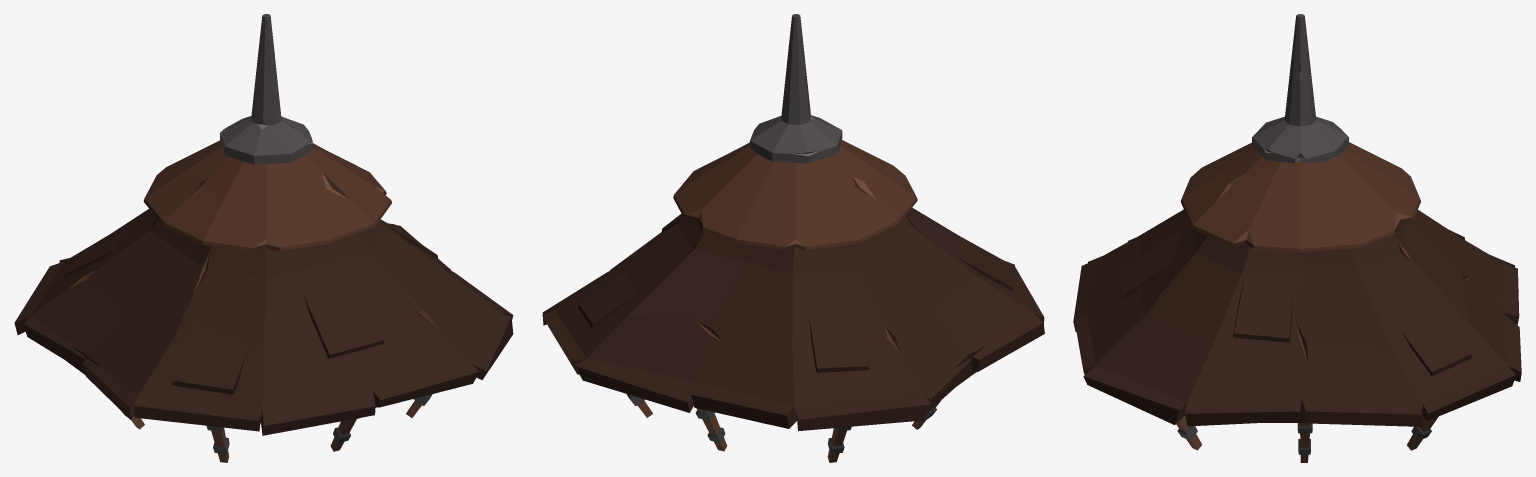
Rendered from Roof_01.glb.
The picture shows the model from 3 angles, left to right: view 1: azimuth 30°, elevation 25°; view 2: azimuth 150°, elevation 25°; view 3: azimuth 270°, elevation 25°; orthographic projection.
Visible parts, largest first — view 1: Roof_01; view 2: Roof_01; view 3: Roof_01.
Part boxes in pixels (x1,y1,x2,y2): Roof_01: (14,14,513,462); Roof_01: (542,14,1044,462); Roof_01: (1073,14,1521,462).
Size of what is drawn, in the model's own units: 8.3 by 7.86 by 8.24.
Materials: 1 (1 with a texture image).
